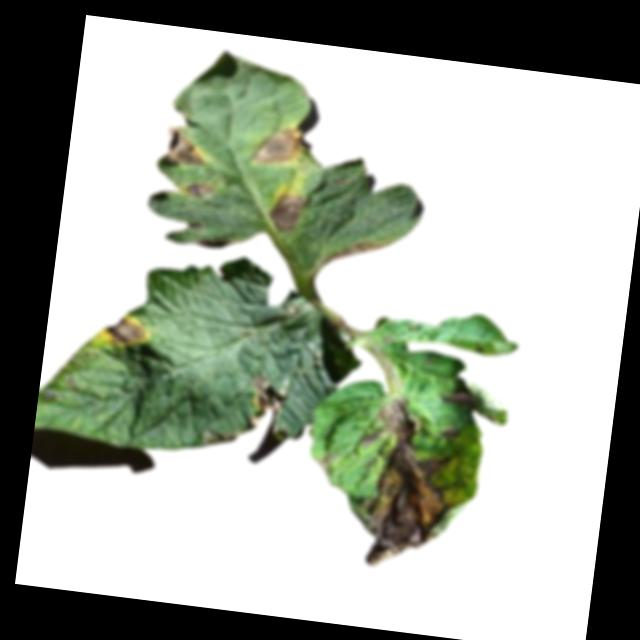Early_blight: (352, 395, 471, 580), (249, 120, 310, 172), (153, 123, 211, 173), (246, 373, 287, 433), (323, 233, 386, 272), (97, 312, 151, 350), (267, 189, 306, 233), (439, 386, 478, 409), (182, 178, 216, 202), (311, 447, 336, 471)
